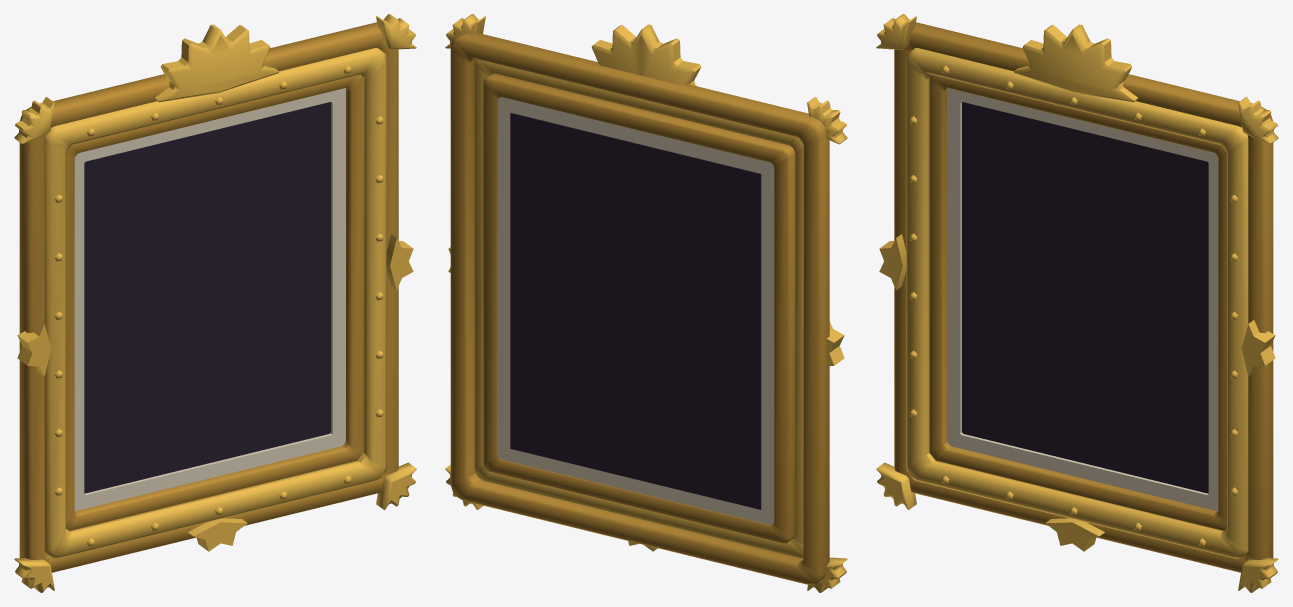
The model's file is Lobby_GoldFrame.fbx.
The picture shows the model from 3 angles, left to right: view 1: azimuth 30°, elevation 25°; view 2: azimuth 150°, elevation 25°; view 3: azimuth 330°, elevation 25°; orthographic projection.
Visible parts, largest first — view 1: Screen, Gold, Antique, Liner; view 2: Screen, Antique, Gold, Liner; view 3: Screen, Gold, Antique, Liner.
Part boxes in pixels (x1,y1,x2,y2): Screen: [84, 102, 330, 493]; Gold: [14, 14, 416, 592]; Antique: [19, 22, 398, 572]; Liner: [74, 88, 345, 511]; Screen: [510, 113, 761, 509]; Antique: [450, 33, 829, 584]; Gold: [445, 14, 847, 592]; Liner: [498, 97, 774, 524]; Screen: [962, 102, 1208, 493]; Gold: [876, 14, 1278, 592]; Antique: [894, 22, 1273, 572]; Liner: [947, 88, 1218, 511].
Size of the model in its own units: 394 by 496 by 30.5.
